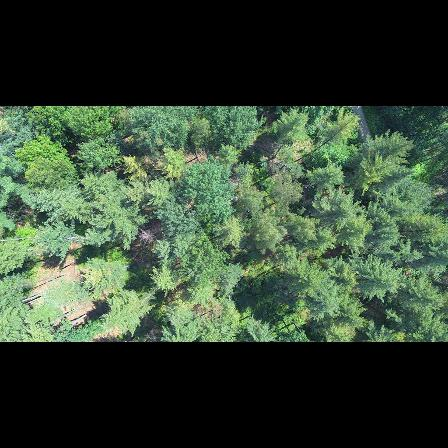Dead: (133, 226, 161, 245)
